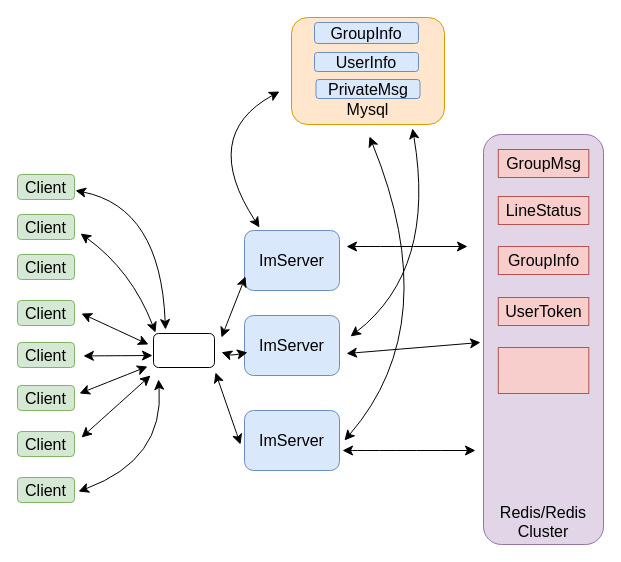
This 621x562 diagram has some shape labels left out. Here are the shapes that lost their labels. From the top down, the centre of each, then its label:
At [183,350]: "Nginx".
At [543,370]: "Group Channel".
